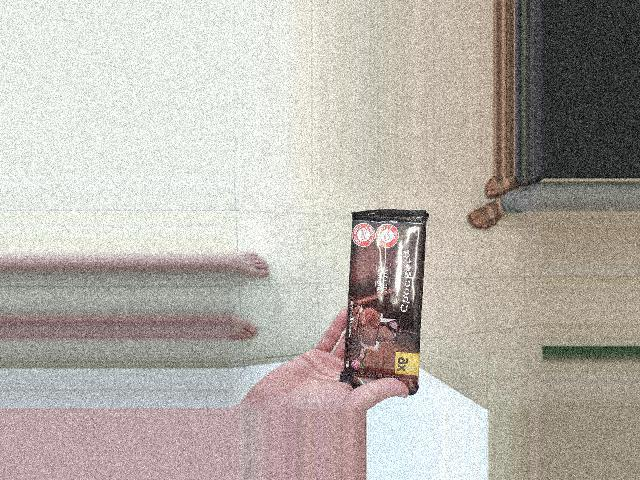chocolate: (329, 204, 433, 395)
